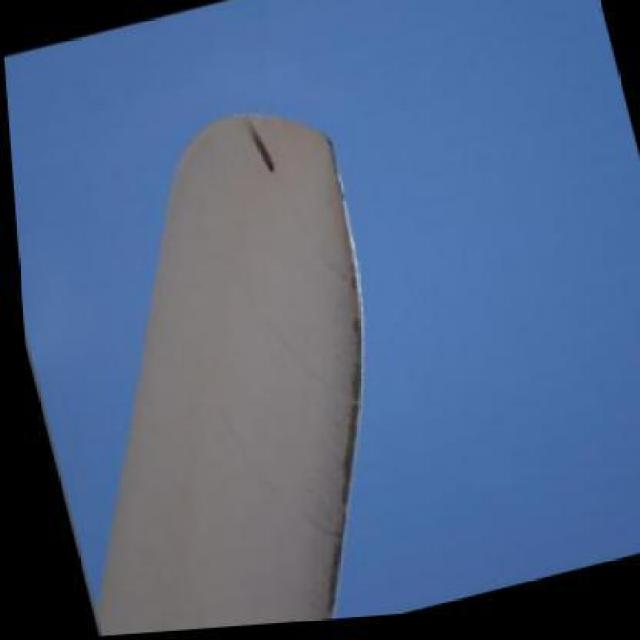Burn Mark: (240, 118, 272, 176)
EROSION: (314, 250, 370, 615)
